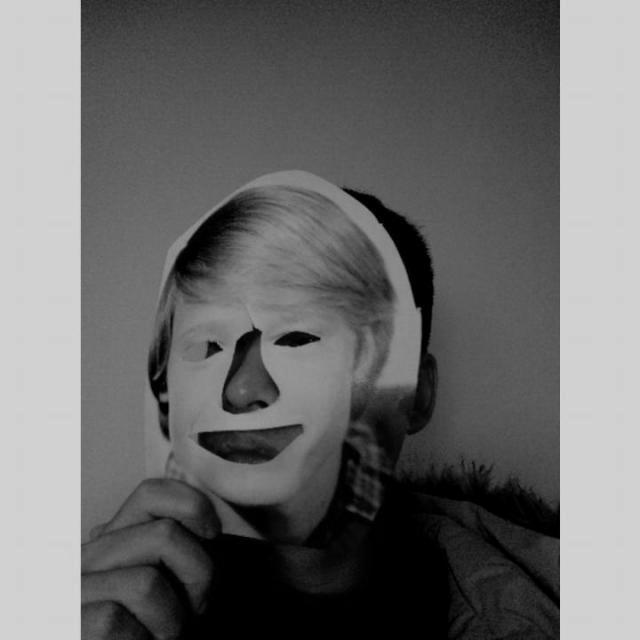fake: (141, 170, 423, 552)
